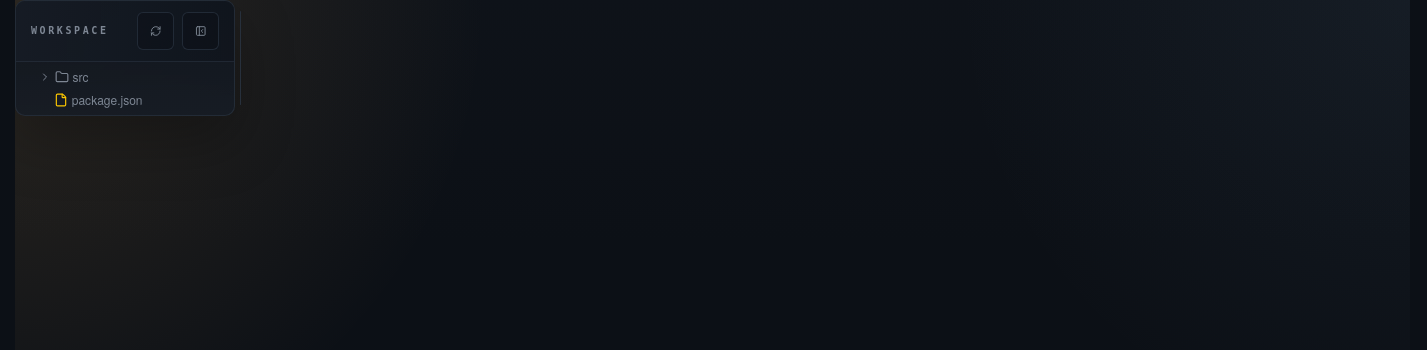
Scenario: FileTreePanel › context menu for deletion › shows "Move to Trash" for default workspace
// Simulate context menu
Right-click the text "src" at (80, 77), box [72,68,88,87]
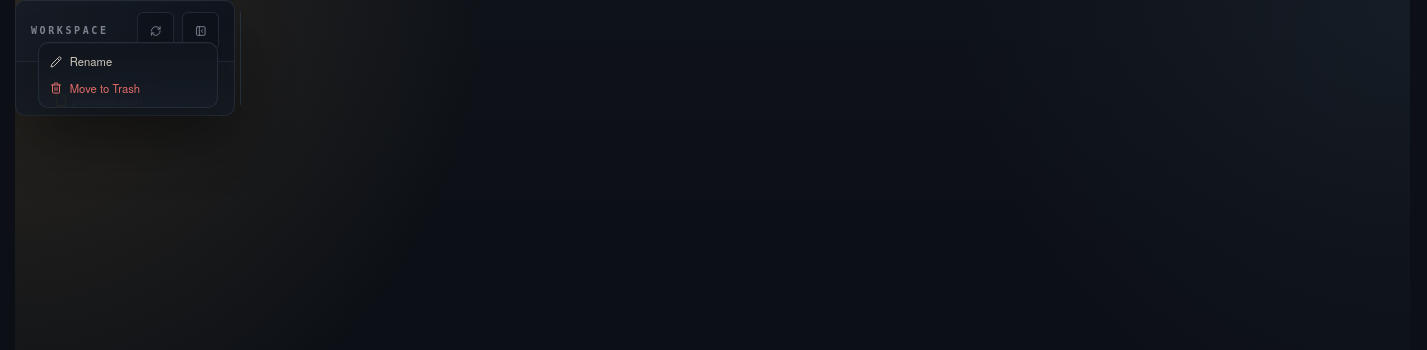
Result: the button "Move to Trash" is shown at [39,75,217,101]
